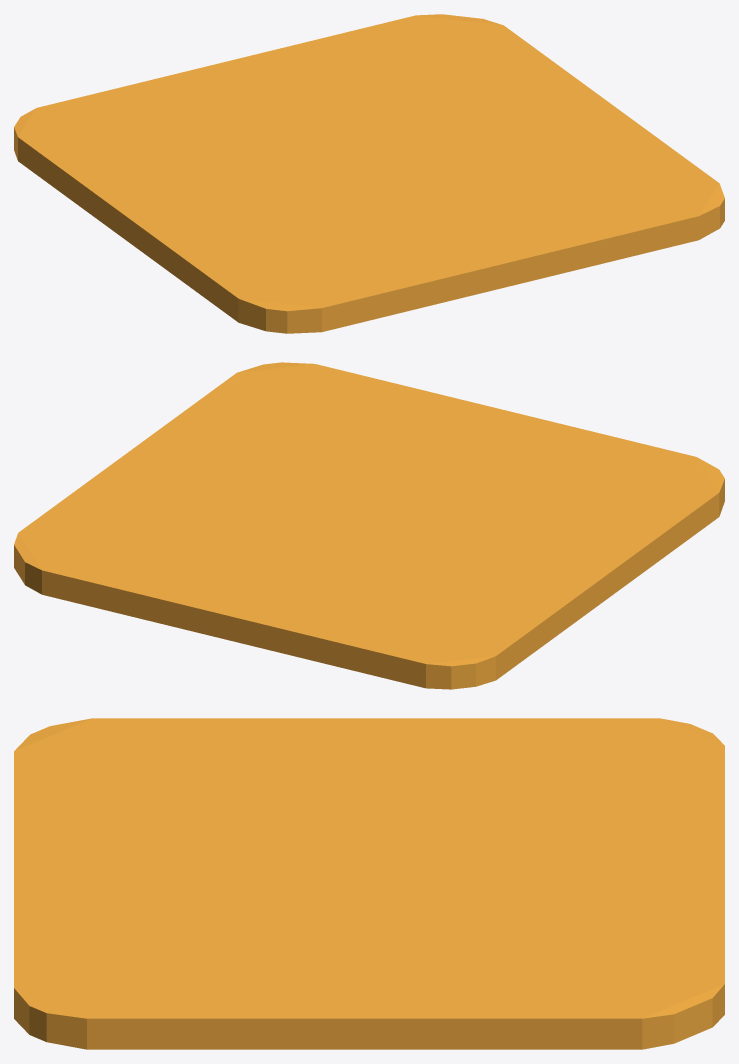
The picture shows the model from 3 angles, top to bottom: view 1: azimuth 30°, elevation 25°; view 2: azimuth 150°, elevation 25°; view 3: azimuth 270°, elevation 25°; orthographic projection. The views are drawn at different scales.
Parts seen in each view (by area): view 1: Cube; view 2: Cube; view 3: Cube.
Part boxes in pixels (bbox=[...]): Cube: bbox=[14, 14, 724, 333]; Cube: bbox=[14, 362, 724, 689]; Cube: bbox=[14, 718, 724, 1049].
Size of the model in its own units: 327 by 15.69 by 327.
